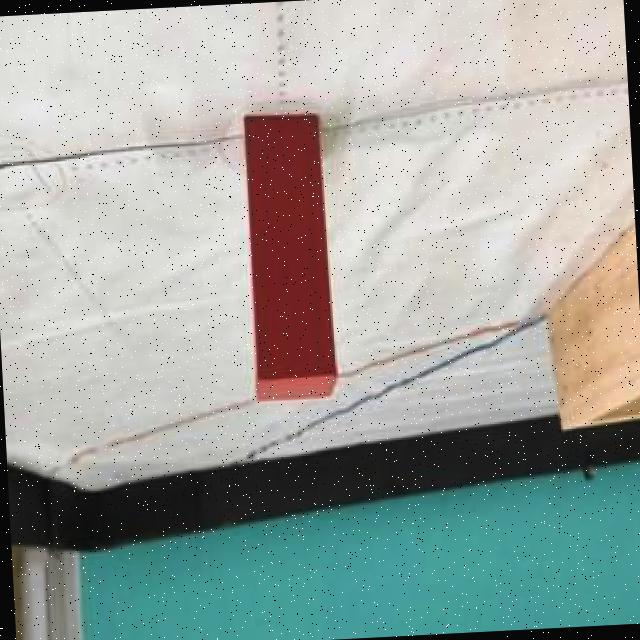redbox: (240, 110, 340, 404)
